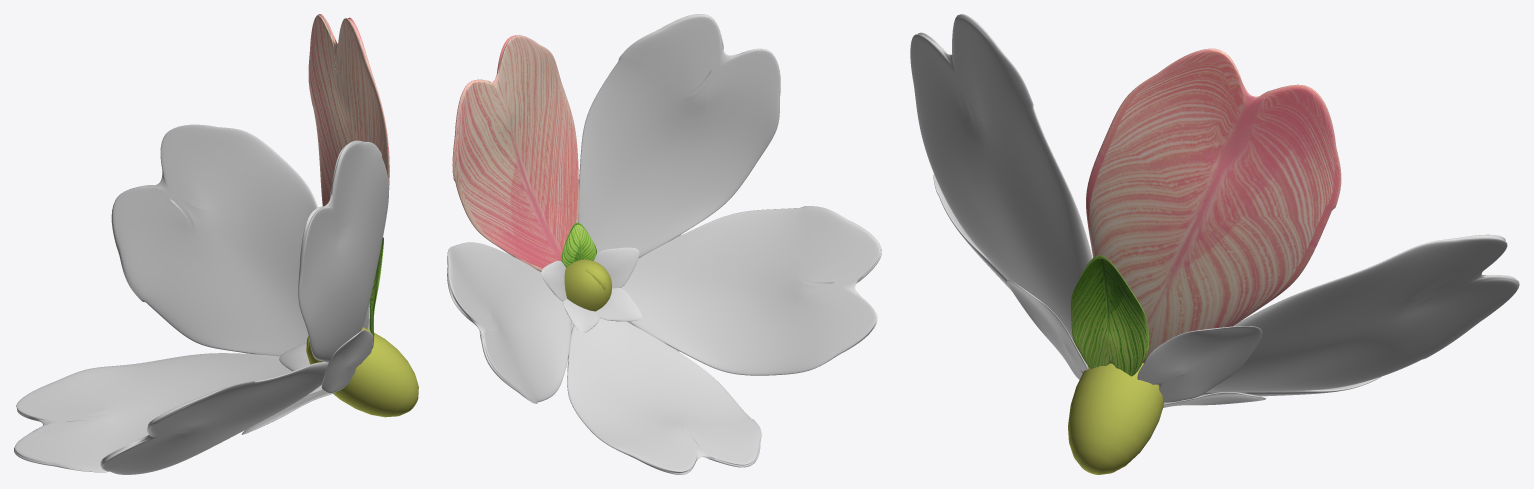
Rendered from Cherry Blossom.fbx.
The picture shows the model from 3 angles, left to right: view 1: azimuth 30°, elevation 25°; view 2: azimuth 150°, elevation 25°; view 3: azimuth 270°, elevation 25°; orthographic projection. The views are drawn at different scales.
Visible parts, largest first — view 1: flower_pedals_4, flower_pedals_3, flower_pedals_1, flower_pedals_2, flower_pedals_0, BudCentR, Inner_leaf1_1, Inner_leaf1_2, inner_leaf_2_3, Inner_leaf1_0; view 2: flower_pedals_1, flower_pedals_2, flower_pedals_0, flower_pedals_3, flower_pedals_4, BudCentR, inner_leaf_2_1, inner_leaf_2_0, inner_leaf_2_2, inner_leaf_2_4, inner_leaf_2_3; view 3: flower_pedals_0, flower_pedals_1, flower_pedals_4, BudCentR, Inner_leaf1_0, Inner_leaf1_4, Inner_leaf1_1, Inner_leaf1_3, flower_pedals_2.
Boxes of the visible parts, left/top/right/bottom form: flower_pedals_4: left=111, top=124, right=317, bottom=356; flower_pedals_3: left=14, top=353, right=292, bottom=472; flower_pedals_1: left=298, top=140, right=388, bottom=362; flower_pedals_2: left=100, top=362, right=328, bottom=474; flower_pedals_0: left=308, top=14, right=389, bottom=206; BudCentR: left=306, top=327, right=418, bottom=417; Inner_leaf1_1: left=321, top=329, right=373, bottom=393; Inner_leaf1_2: left=241, top=387, right=344, bottom=434; inner_leaf_2_3: left=279, top=342, right=309, bottom=371; Inner_leaf1_0: left=369, top=237, right=383, bottom=348; flower_pedals_1: left=578, top=14, right=780, bottom=257; flower_pedals_2: left=621, top=206, right=881, bottom=375; flower_pedals_0: left=452, top=35, right=578, bottom=271; flower_pedals_3: left=567, top=318, right=761, bottom=474; flower_pedals_4: left=447, top=242, right=571, bottom=403; BudCentR: left=564, top=259, right=611, bottom=311; inner_leaf_2_1: left=594, top=247, right=639, bottom=288; inner_leaf_2_0: left=561, top=222, right=596, bottom=267; inner_leaf_2_2: left=595, top=288, right=641, bottom=321; inner_leaf_2_4: left=541, top=261, right=567, bottom=301; inner_leaf_2_3: left=563, top=299, right=599, bottom=332; flower_pedals_0: left=1086, top=48, right=1341, bottom=362; flower_pedals_1: left=910, top=14, right=1092, bottom=342; flower_pedals_4: left=1206, top=234, right=1519, bottom=392; BudCentR: left=1068, top=363, right=1164, bottom=474; Inner_leaf1_0: left=1070, top=255, right=1148, bottom=376; Inner_leaf1_4: left=1137, top=326, right=1262, bottom=402; Inner_leaf1_1: left=1007, top=280, right=1088, bottom=379; Inner_leaf1_3: left=1163, top=392, right=1265, bottom=407; flower_pedals_2: left=933, top=174, right=1011, bottom=290.
Size of the model in its own units: 270 by 287 by 347.
4 materials, 2 textured.
